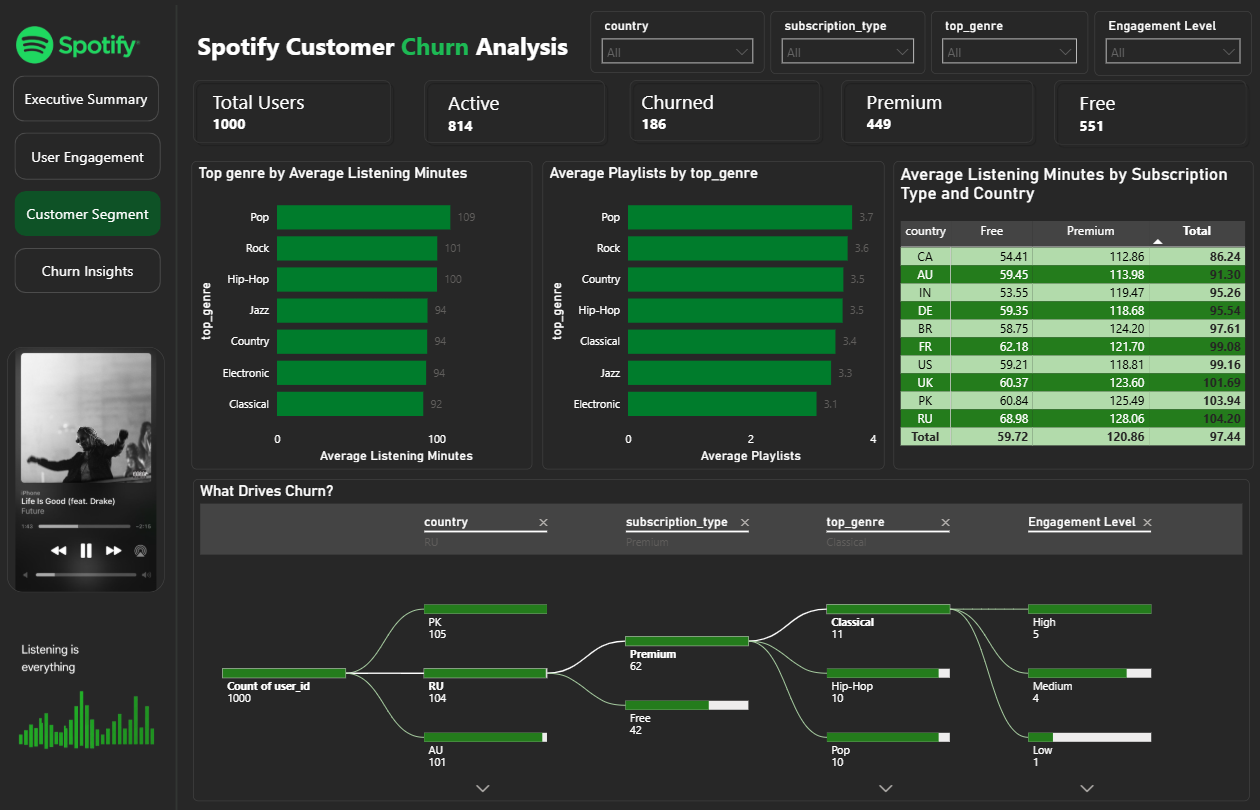

This screenshot's page, from the dashboard's own definition file:
{"tool":"powerbi","page":{"name":"Page 3","canvas":[1400,900],"ordinal":2},"visuals":[{"type":"image","box":[8.8,0,161.2,88.8],"z":0},{"type":"textbox","box":[216.7,21.7,471.7,45],"z":1000},{"type":"shape","box":[212.3,77.7,230.1,80.1],"z":1000,"group":"g1"},{"type":"shape","box":[16.7,77.8,162.2,51.1],"z":2000},{"type":"textbox","box":[233.5,85.5,258.6,65.4],"z":3000,"group":"g1"},{"type":"shape","box":[17.5,141.8,162.5,52.5],"z":3000},{"type":"shape","box":[17.5,270,162.5,50],"z":4000},{"type":"shape","box":[17.5,207.1,162.5,50],"z":5000},{"type":"shape","box":[191.7,0,13.3,900],"z":6000},{"type":"slicer","fields":{"Values":["spotify_churn_dataset.country"]},"box":[658.3,6.7,193.3,68.3],"z":7000},{"type":"slicer","fields":{"Values":["spotify_churn_dataset.subscription_type"]},"box":[858.4,6.7,171.7,70],"z":8000},{"type":"slicer","fields":{"Values":["spotify_churn_dataset.top_genre"]},"box":[1036.9,7.3,174.5,70],"z":9000},{"type":"shape","box":[468,78,211.2,80],"z":9000,"group":"g2"},{"type":"slicer","fields":{"Values":["spotify_churn_dataset.Engagement Level"]},"box":[1218.2,6.4,174.5,71.8],"z":10000},{"type":"group","id":"g1","title":"Group 1","box":[212.3,77.7,279.2,80],"z":11000},{"type":"textbox","box":[494.4,88,186,68.4],"z":11000,"group":"g2"},{"type":"group","id":"g2","title":"Group 2","box":[468,78,212,80],"z":12000},{"type":"shape","box":[932.3,77.7,223.7,80],"z":13000,"group":"g5"},{"type":"group","id":"g3","title":"Group 3","box":[696,78,220,78],"z":13000},{"type":"group","id":"g4","title":"Group 4","box":[1168,78,224,82],"z":14000},{"type":"textbox","box":[708.6,85.8,208.9,65.4],"z":14000,"group":"g3"},{"type":"group","id":"g5","title":"Group 5","box":[932.3,77.7,233.8,80],"z":15000},{"type":"shape","box":[696,78,222,78],"z":15000,"group":"g3"},{"type":"textbox","box":[961.1,86.6,205.1,63.5],"z":16000,"group":"g5"},{"type":"image","box":[10,380,175,272.5],"z":16000},{"type":"shape","box":[1168,78,224,82],"z":17000,"group":"g4"},{"type":"image","box":[10,697.5,176.2,155],"z":17000},{"type":"textbox","box":[1196.7,87.6,194.4,62.9],"z":18000,"group":"g4"},{"type":"clusteredBarChart","title":"Top genre by Average Listening Minutes ","fields":{"Category":["spotify_churn_dataset.top_genre"],"Y":["spotify_churn_dataset.Average Listening Minutes"]},"box":[215.7,172.9,378.6,342.9],"z":18000},{"type":"clusteredBarChart","fields":{"Category":["spotify_churn_dataset.top_genre"],"Y":["spotify_churn_dataset.Average Playlists"]},"box":[604.3,172.9,380,342.9],"z":19000},{"type":"pivotTable","title":"Average Listening Minutes by Subscription Type and Country","fields":{"Rows":["spotify_churn_dataset.country"],"Columns":["spotify_churn_dataset.subscription_type"],"Values":["spotify_churn_dataset.Average Listening Minutes"]},"box":[994.3,172.9,400,342.9],"z":20000},{"type":"decompositionTreeVisual","title":"What Drives Churn?","fields":{"ExplainBy":["spotify_churn_dataset.country","spotify_churn_dataset.subscription_type","spotify_churn_dataset.top_genre","spotify_churn_dataset.Engagement Level"],"Analyze":["CountNonNull(spotify_churn_dataset.user_id)"]},"box":[216,526,1174,358],"z":21000}]}

Visuals, with their boxes in screenshot pixels (x1, y1, x2, y2), scaled from the page's 1400x900 canvas onto the 1260x810 screenshot:
image: bbox=(8, 0, 153, 80)
textbox: bbox=(195, 20, 620, 60)
shape: bbox=(191, 70, 398, 142)
shape: bbox=(15, 70, 161, 116)
textbox: bbox=(210, 77, 443, 136)
shape: bbox=(16, 128, 162, 175)
shape: bbox=(16, 243, 162, 288)
shape: bbox=(16, 186, 162, 231)
shape: bbox=(173, 0, 184, 809)
slicer - spotify_churn_dataset.country: bbox=(592, 6, 766, 68)
slicer - spotify_churn_dataset.subscription_type: bbox=(773, 6, 927, 69)
slicer - spotify_churn_dataset.top_genre: bbox=(933, 7, 1090, 70)
shape: bbox=(421, 70, 611, 142)
slicer - spotify_churn_dataset.Engagement Level: bbox=(1096, 6, 1253, 70)
"Group 1" group: bbox=(191, 70, 442, 142)
textbox: bbox=(445, 79, 612, 141)
"Group 2" group: bbox=(421, 70, 612, 142)
shape: bbox=(839, 70, 1040, 142)
"Group 3" group: bbox=(626, 70, 824, 140)
"Group 4" group: bbox=(1051, 70, 1253, 144)
textbox: bbox=(638, 77, 826, 136)
"Group 5" group: bbox=(839, 70, 1049, 142)
shape: bbox=(626, 70, 826, 140)
textbox: bbox=(865, 78, 1050, 135)
image: bbox=(9, 342, 166, 587)
shape: bbox=(1051, 70, 1253, 144)
image: bbox=(9, 628, 168, 767)
textbox: bbox=(1077, 79, 1252, 135)
"Top genre by Average Listening Minutes " clusteredBarChart: bbox=(194, 156, 535, 464)
clusteredBarChart - spotify_churn_dataset.top_genre x spotify_churn_dataset.Average Playlists: bbox=(544, 156, 886, 464)
"Average Listening Minutes by Subscription Type and Country" pivotTable: bbox=(895, 156, 1255, 464)
"What Drives Churn?" decompositionTreeVisual: bbox=(194, 473, 1251, 796)
